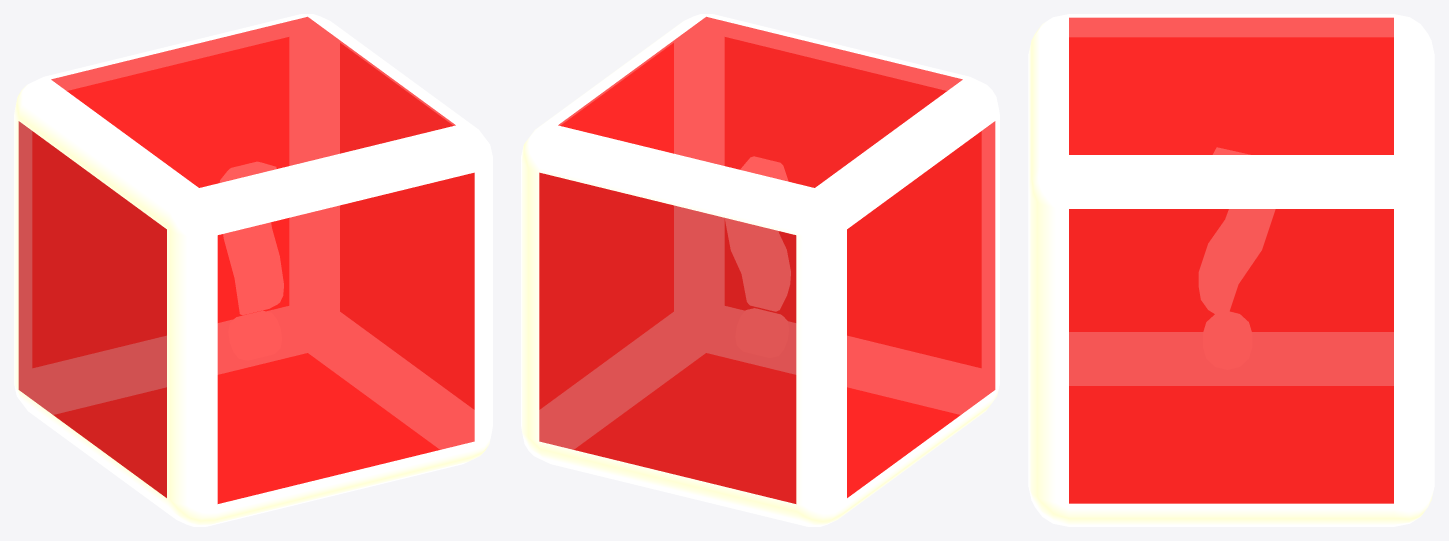
Rendered from item_box.glb.
3 renders of one model, left to right at view 1: azimuth 30°, elevation 25°; view 2: azimuth 150°, elevation 25°; view 3: azimuth 270°, elevation 25°, orthographic. The views are drawn at different scales.
Visible parts, largest first — view 1: item_box, item_box_mark; view 2: item_box, item_box_mark; view 3: item_box, item_box_mark.
Boxes of the visible parts, left/top/right/bottom form: item_box: left=14, top=14, right=492, bottom=526; item_box_mark: left=220, top=162, right=283, bottom=360; item_box: left=521, top=14, right=999, bottom=526; item_box_mark: left=725, top=156, right=790, bottom=357; item_box: left=1028, top=14, right=1434, bottom=526; item_box_mark: left=1199, top=147, right=1275, bottom=369.
Bounding box in the file's own units: 11 × 11 × 11.
